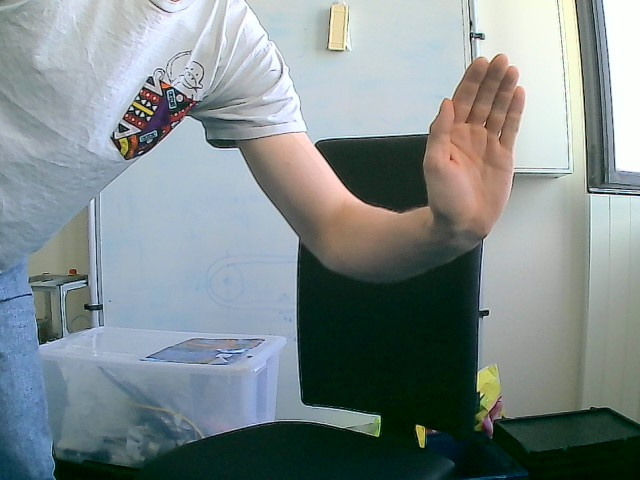stop: (421, 52, 527, 241)
